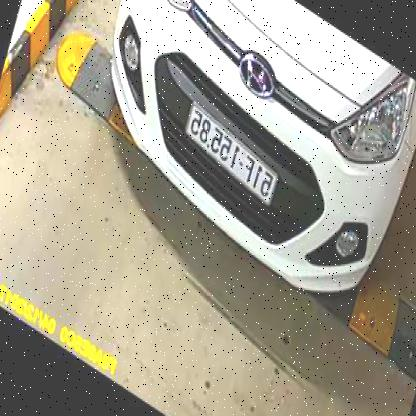license plate: (194, 105, 305, 145)
